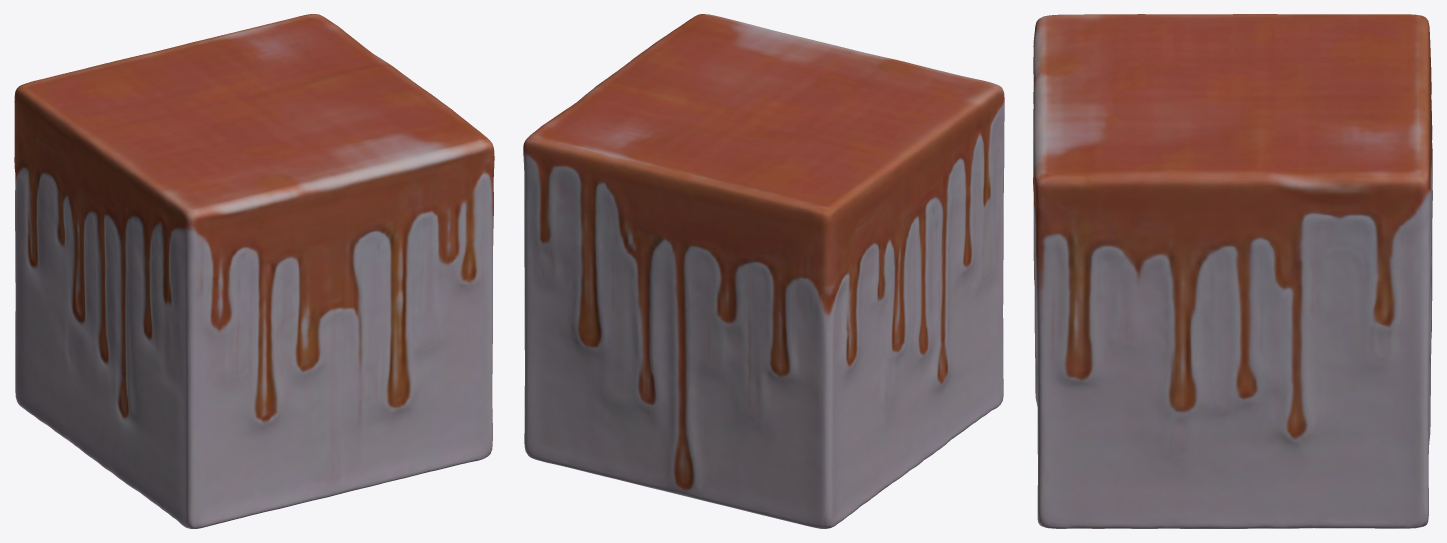
The model's file is fc2488831d05_melting_cube__3d_as.fbx.
3 renders of one model, left to right at view 1: azimuth 30°, elevation 25°; view 2: azimuth 150°, elevation 25°; view 3: azimuth 270°, elevation 25°, orthographic. The views are drawn at different scales.
Visible parts, largest first — view 1: high_poly; view 2: high_poly; view 3: high_poly.
Part boxes in pixels (box(x1,y1,x2,y2)): high_poly: box(14, 14, 494, 528); high_poly: box(523, 14, 1004, 528); high_poly: box(1033, 14, 1432, 528).
Bounding box in the file's own units: 99.9 × 98.32 × 100.
